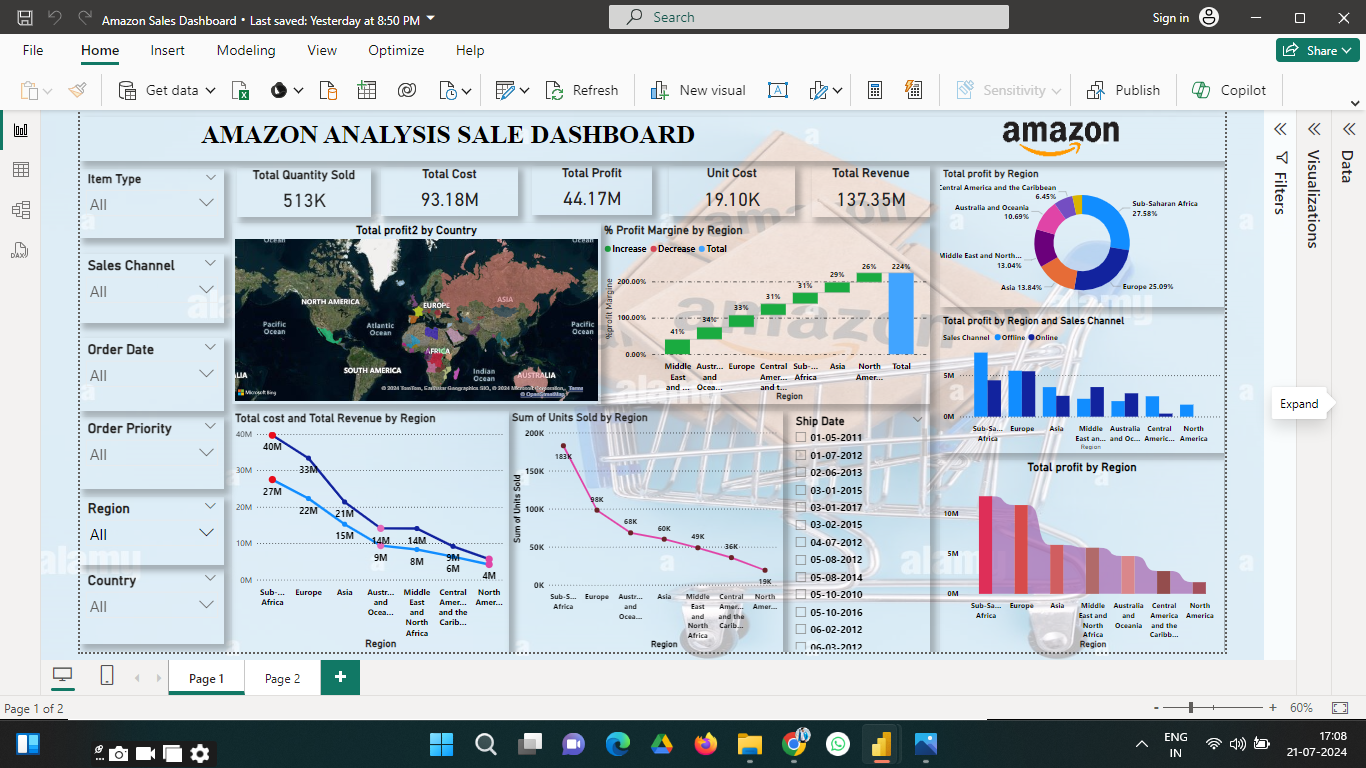

Layout of this report page (visuals, bound fields, positions):
{"tool":"powerbi","page":{"name":"Page 1","canvas":[1900,900],"ordinal":0},"visuals":[{"type":"card","title":"Total Cost","fields":{"Values":["Sum(Amazon Data.Total Cost)"]},"box":[499.8,94.6,227.5,81.4],"z":0},{"type":"textbox","box":[0,11,1900.6,73.2],"z":1000},{"type":"image","box":[1428,11.6,400.2,73.1],"z":2000},{"type":"card","title":"Total Profit","fields":{"Values":["Sum(Amazon Data.Total Profit)"]},"box":[750.6,93,199.3,81.4],"z":3000},{"type":"card","title":"Unit Cost","fields":{"Values":["Sum(Amazon Data.Unit Cost)"]},"box":[978,93,209.2,83],"z":4000},{"type":"card","title":"Total Revenue","fields":{"Values":["Sum(Amazon Data.Total Revenue)"]},"box":[1215.5,93,195.9,84.7],"z":5000},{"type":"slicer","fields":{"Values":["Amazon Data.Region"]},"box":[0,642.6,239.1,112.9],"z":6000},{"type":"waterfallChart","title":"% Profit Margine by Region","fields":{"Category":["Amazon Data.Region"],"Y":["Amazon Data.%profit Margine"]},"box":[865.1,187.6,546.3,300.6],"z":7000},{"type":"filledMap","title":"Total profit2 by Country","fields":{"Category":["Amazon Data.Country"]},"box":[252.4,187.6,612.7,300.6],"z":8000},{"type":"lineChart","title":"Total cost and Total Revenue by Region","fields":{"Y":["Amazon Data.total cost2","Amazon Data.Total Revenue2"],"Category":["Amazon Data.Region"]},"box":[252.4,499.8,460,400.2],"z":9000},{"type":"donutChart","title":"Total profit by Region","fields":{"Y":["Amazon Data.total profit2"],"Category":["Amazon Data.Region"]},"box":[1428,95.1,472,232.3],"z":10000},{"type":"lineClusteredColumnComboChart","title":"Total profit by Region and Sales Channel","fields":{"Category":["Amazon Data.Region"],"Y":["Amazon Data.total profit2"],"Series":["Amazon Data.Sales Channel"]},"box":[1428,338.4,472,230.5],"z":11000},{"type":"lineChart","fields":{"Y":["Sum(Amazon Data.Units Sold)"],"Category":["Amazon Data.Region"]},"box":[712.8,499.4,455.5,400.6],"z":12000},{"type":"ribbonChart","title":"Total profit by Region","fields":{"Category":["Amazon Data.Region"],"Y":["Amazon Data.total profit2"]},"box":[1428,581.7,472,318.3],"z":13000},{"type":"slicer","fields":{"Values":["Amazon Data.Ship Date"]},"box":[1175.6,499.4,236,400.6],"z":14000},{"type":"slicer","fields":{"Values":["Amazon Data.Item Type"]},"box":[0,98,239.1,114.6],"z":15000},{"type":"slicer","fields":{"Values":["Amazon Data.Order Date"]},"box":[0,378.6,239.1,121.2],"z":16000},{"type":"slicer","fields":{"Values":["Amazon Data.Order Priority"]},"box":[0,509.8,239.1,119.6],"z":17000},{"type":"slicer","fields":{"Values":["Amazon Data.Sales Channel"]},"box":[0,239.1,239.1,114.6],"z":18000},{"type":"slicer","fields":{"Values":["Amazon Data.Country"]},"box":[0,762.2,239.1,124.5],"z":19000},{"type":"card","title":"Total Quantity Sold","fields":{"Values":["Amazon Data.Total Quantity Sold"]},"box":[260.7,96.3,222.5,81.4],"z":20000}]}

Visuals, with their boxes on the page's 1900x900 design canvas (x1, y1, x2, y2). These are canvas units, not pixel positions in the 1366x768 screenshot, which may show the page scaled, cropped or inside an application window:
"Total Cost" card: rect(500, 95, 727, 176)
textbox: rect(0, 11, 1901, 84)
image: rect(1428, 12, 1828, 85)
"Total Profit" card: rect(751, 93, 950, 174)
"Unit Cost" card: rect(978, 93, 1187, 176)
"Total Revenue" card: rect(1216, 93, 1411, 178)
slicer - Amazon Data.Region: rect(0, 643, 239, 756)
"% Profit Margine by Region" waterfallChart: rect(865, 188, 1411, 488)
"Total profit2 by Country" filledMap: rect(252, 188, 865, 488)
"Total cost and Total Revenue by Region" lineChart: rect(252, 500, 712, 900)
"Total profit by Region" donutChart: rect(1428, 95, 1900, 327)
"Total profit by Region and Sales Channel" lineClusteredColumnComboChart: rect(1428, 338, 1900, 569)
lineChart - Sum(Amazon Data.Units Sold) x Amazon Data.Region: rect(713, 499, 1168, 900)
"Total profit by Region" ribbonChart: rect(1428, 582, 1900, 900)
slicer - Amazon Data.Ship Date: rect(1176, 499, 1412, 900)
slicer - Amazon Data.Item Type: rect(0, 98, 239, 213)
slicer - Amazon Data.Order Date: rect(0, 379, 239, 500)
slicer - Amazon Data.Order Priority: rect(0, 510, 239, 629)
slicer - Amazon Data.Sales Channel: rect(0, 239, 239, 354)
slicer - Amazon Data.Country: rect(0, 762, 239, 887)
"Total Quantity Sold" card: rect(261, 96, 483, 178)
